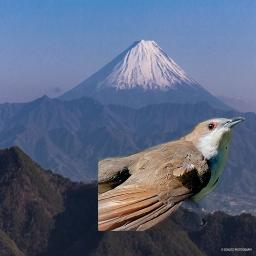Cuckoo: (98, 117, 245, 231)
